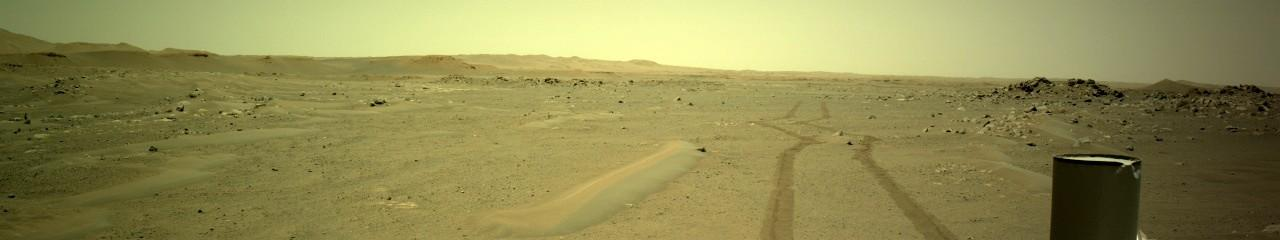bedrock: (10, 29, 195, 181), (1096, 112, 1185, 127), (1257, 106, 1275, 128)
big_rock: (1020, 71, 1112, 91), (1258, 81, 1274, 104)
sand: (13, 55, 1259, 235), (489, 135, 711, 239), (1000, 92, 1120, 165), (1051, 177, 1137, 218), (538, 105, 634, 120)
soil: (117, 91, 1266, 239), (1011, 123, 1029, 136), (21, 159, 28, 191), (1046, 166, 1051, 176)
